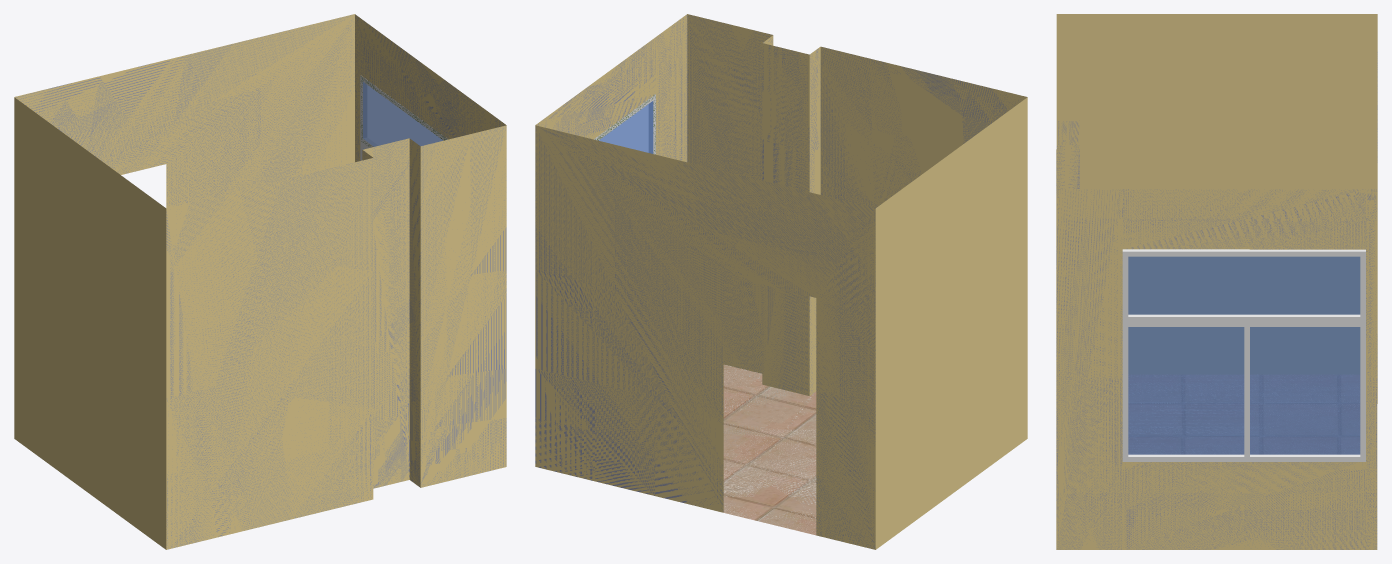
The model's file is DES013.obj.
The picture shows the model from 3 angles, left to right: view 1: azimuth 30°, elevation 25°; view 2: azimuth 150°, elevation 25°; view 3: azimuth 270°, elevation 25°; orthographic projection. The views are drawn at different scales.
Parts seen in each view (by area): view 1: Mesh7 DES013 Model, Mesh1 ventana1_1 DES013 Model; view 2: Mesh7 DES013 Model, Mesh1 ventana1_1 DES013 Model; view 3: Mesh7 DES013 Model, Mesh1 ventana1_1 DES013 Model.
Part boxes in pixels (x1,y1,x2,y2): Mesh7 DES013 Model: [14, 14, 506, 549]; Mesh1 ventana1_1 DES013 Model: [360, 75, 447, 160]; Mesh7 DES013 Model: [535, 14, 1027, 549]; Mesh1 ventana1_1 DES013 Model: [594, 94, 655, 154]; Mesh7 DES013 Model: [1056, 14, 1377, 549]; Mesh1 ventana1_1 DES013 Model: [1122, 249, 1365, 461].
Bounding box in the file's own units: 3.81 × 3.6 × 2.91.
7 materials, 2 textured.
